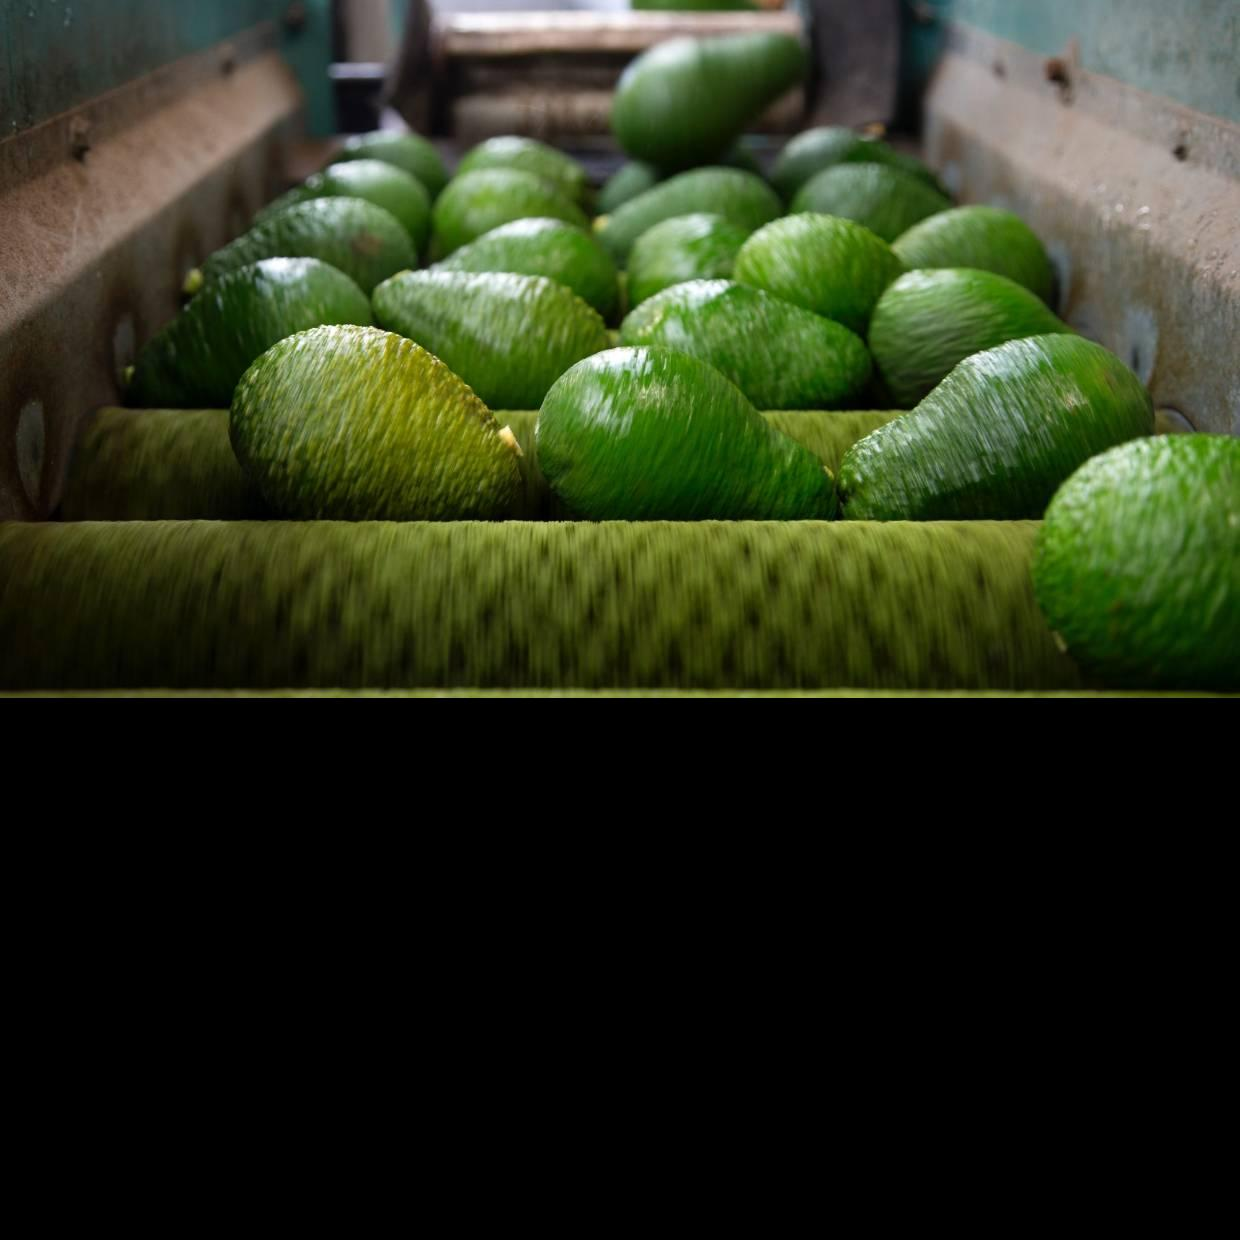unripe: (837, 330, 1156, 521), (231, 324, 526, 521), (1028, 435, 1240, 692), (535, 345, 835, 521), (122, 257, 370, 408), (372, 270, 613, 411), (621, 279, 870, 410), (611, 35, 807, 164), (187, 198, 419, 293), (589, 169, 784, 261), (734, 211, 905, 313)
